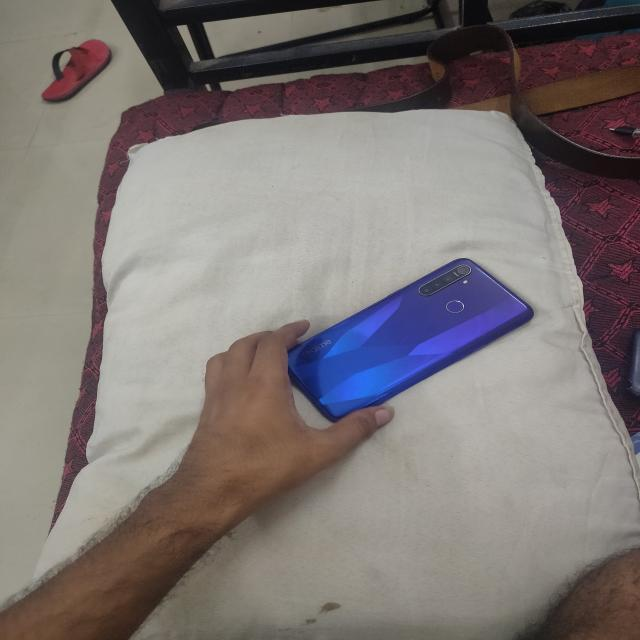Phone: (286, 255, 536, 426)
